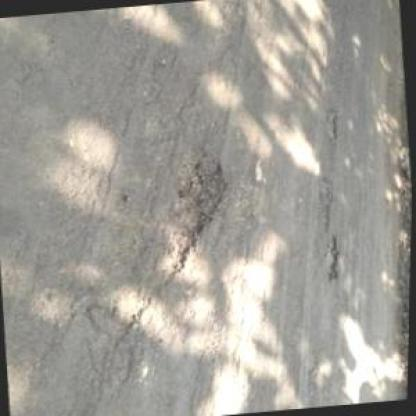pothole: (152, 144, 235, 279), (319, 233, 344, 284), (322, 104, 340, 147)
